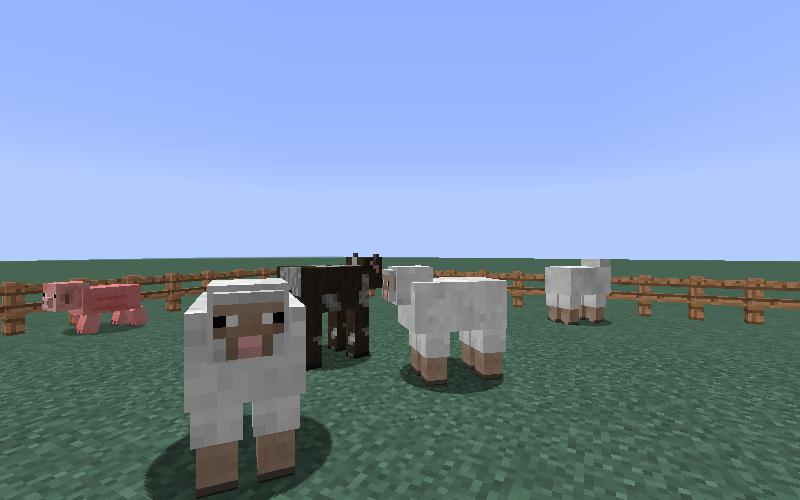cow: (277, 252, 383, 370)
pig: (37, 272, 149, 341)
sheep: (179, 275, 309, 500), (380, 261, 510, 386), (542, 256, 614, 333)
